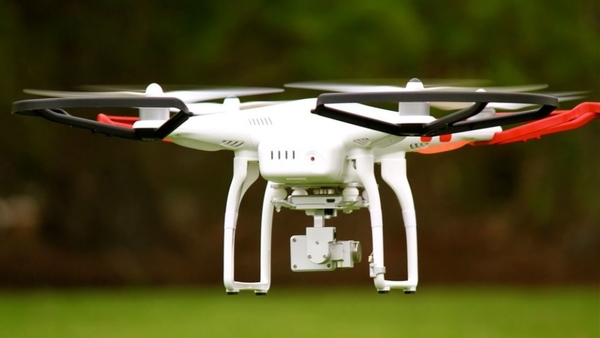drone: (9, 74, 600, 296)
